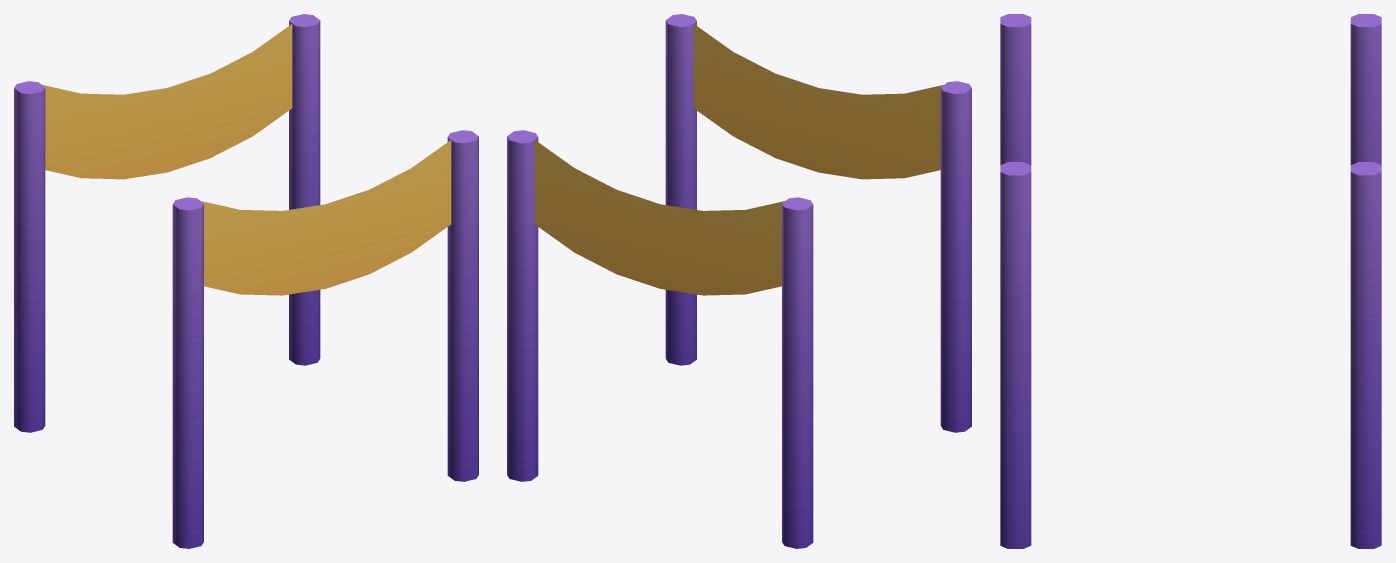
Rendered from banner-hanging-double-high-col.glb.
3 views of the same model, side by side, from view 1: azimuth 30°, elevation 25°; view 2: azimuth 150°, elevation 25°; view 3: azimuth 270°, elevation 25° (orthographic). The views are drawn at different scales.
Parts seen in each view (by area): view 1: banner-hanging-double-high-col; view 2: banner-hanging-double-high-col; view 3: banner-hanging-double-high-col.
Part boxes in pixels (x1,y1,x2,y2): banner-hanging-double-high-col: [14, 14, 478, 548]; banner-hanging-double-high-col: [507, 14, 971, 548]; banner-hanging-double-high-col: [1000, 14, 1381, 548].
Bounding box in the file's own units: 0.925 × 1 × 0.925.
1 material, 1 textured.
